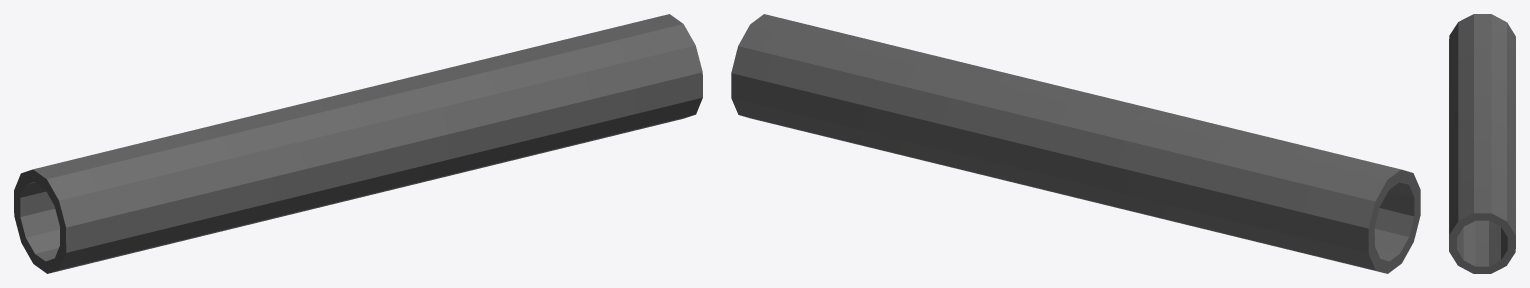
The model's file is Pipe.fbx.
3 views of the same model, side by side, from view 1: azimuth 30°, elevation 25°; view 2: azimuth 150°, elevation 25°; view 3: azimuth 270°, elevation 25° (orthographic). The views are drawn at different scales.
Parts seen in each view (by area): view 1: Pipe; view 2: Pipe; view 3: Pipe.
Boxes of the visible parts, x1,y1,x2,y2 form: Pipe: [14, 14, 702, 273]; Pipe: [731, 14, 1420, 273]; Pipe: [1449, 14, 1515, 273].
Bounding box in the file's own units: 445 × 63.09 × 63.09.
